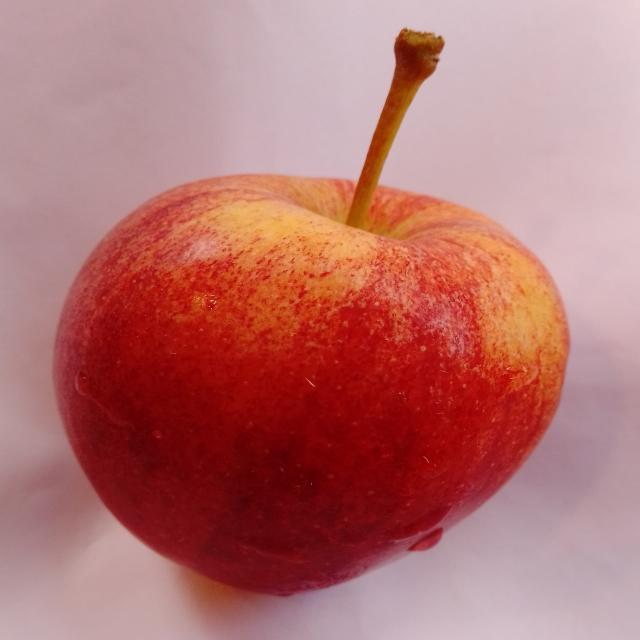Fresh Apple: (48, 164, 575, 598)
